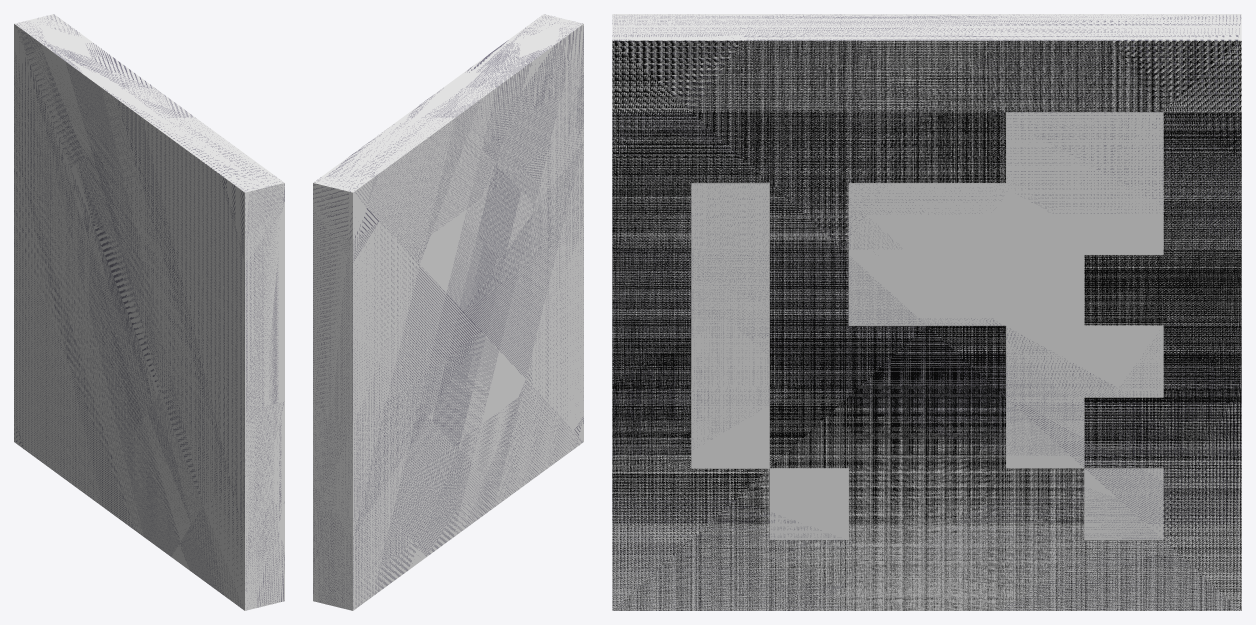
The model's file is aruco.dae.
The picture shows the model from 3 angles, left to right: view 1: azimuth 30°, elevation 25°; view 2: azimuth 150°, elevation 25°; view 3: azimuth 270°, elevation 25°; orthographic projection. The views are drawn at different scales.
Parts seen in each view (by area): view 1: group_0; view 2: group_0; view 3: image_0, group_0.
Boxes of the visible parts, bbox=[...] form: group_0: bbox=[14, 14, 284, 610]; group_0: bbox=[313, 14, 583, 610]; image_0: bbox=[612, 40, 1241, 610]; group_0: bbox=[612, 14, 1241, 610].
Bounding box in the file's own units: 0.2362 × 2.36 × 2.36.
3 materials, 1 textured.
